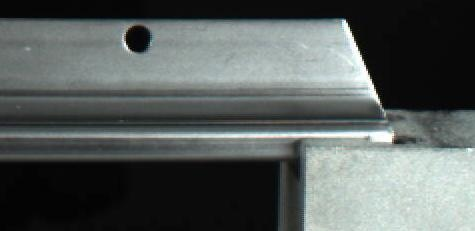cut: (230, 12, 407, 161)
holes: (120, 22, 155, 54)
